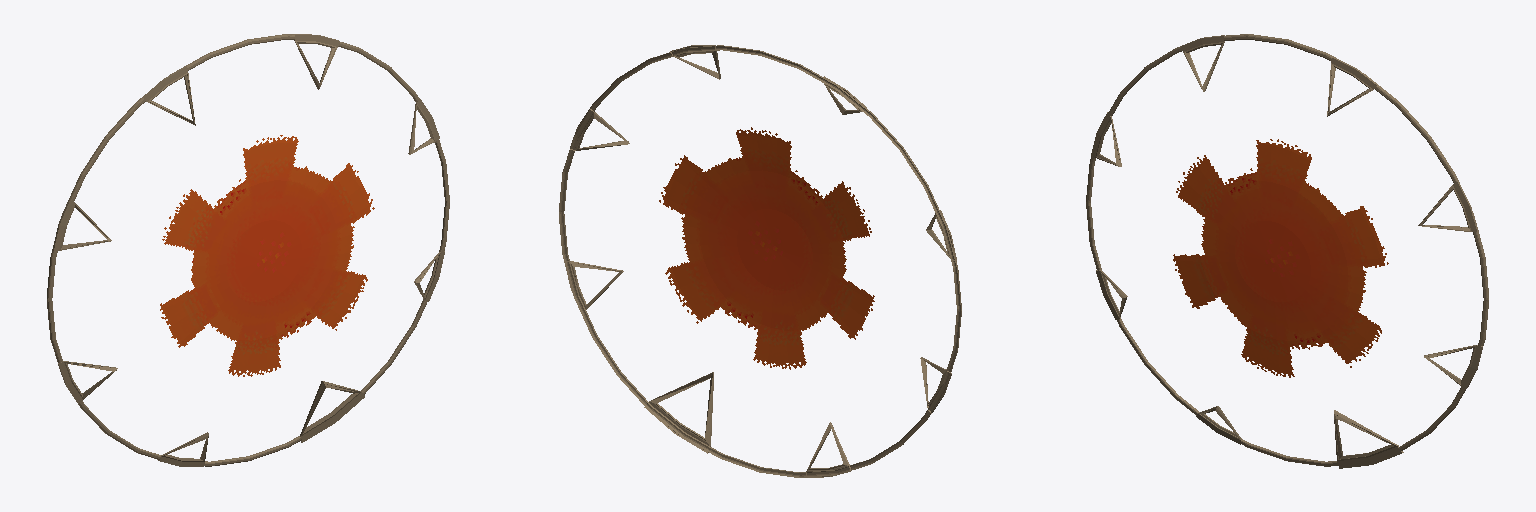
3 views of the same model, side by side, from view 1: azimuth 30°, elevation 25°; view 2: azimuth 150°, elevation 25°; view 3: azimuth 330°, elevation 25° (orthographic).
Parts seen in each view (by area): view 1: ckp1; view 2: ckp1; view 3: ckp1.
Part boxes in pixels (x1,y1,x2,y2): ckp1: (47, 34, 449, 466); ckp1: (559, 45, 961, 477); ckp1: (1086, 34, 1488, 468).
Bounding box in the file's own units: 12.36 × 12.36 × 0.8904.
Materials: 2 (1 with a texture image).